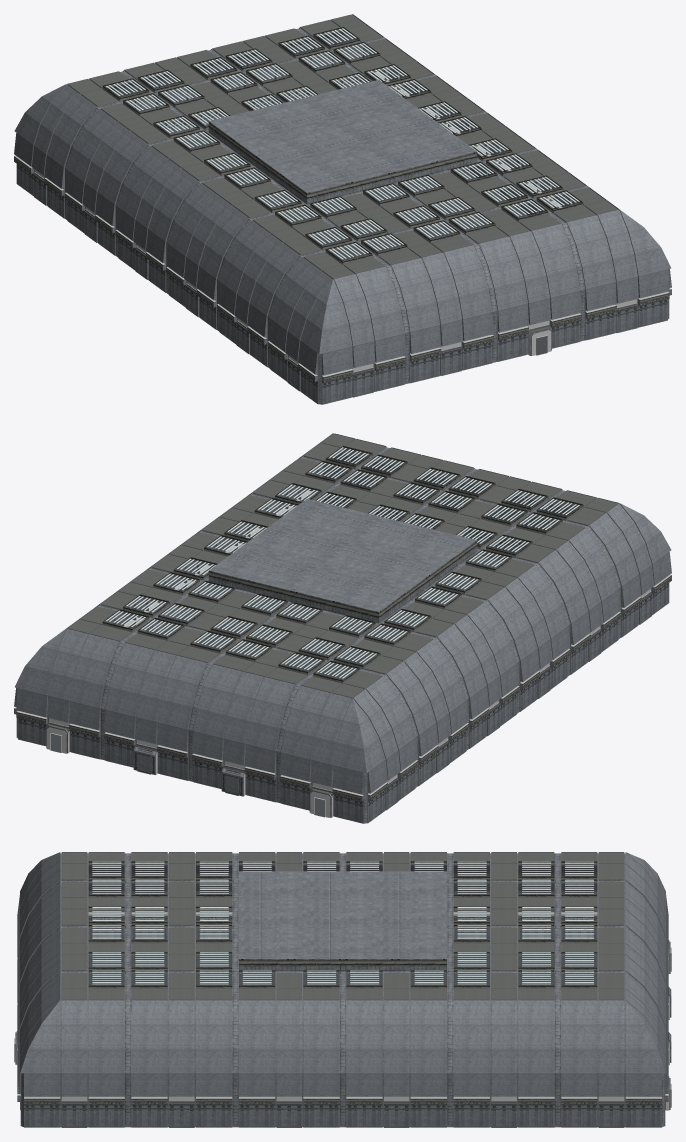
File: poi_all_impl_bunker_warren_s01_r74_hugeroom74_mesh_r74.fbx
3 renders of one model, top to bottom at view 1: azimuth 30°, elevation 25°; view 2: azimuth 150°, elevation 25°; view 3: azimuth 270°, elevation 25°, orthographic. The views are drawn at different scales.
Visible parts, largest first — view 1: mesh_node; view 2: mesh_node; view 3: mesh_node.
Part boxes in pixels (left/top/right/bottom): mesh_node: left=14, top=14, right=671, bottom=404; mesh_node: left=14, top=433, right=671, bottom=823; mesh_node: left=14, top=852, right=671, bottom=1127.
Bounding box in the file's own units: 65 × 20 × 98.
